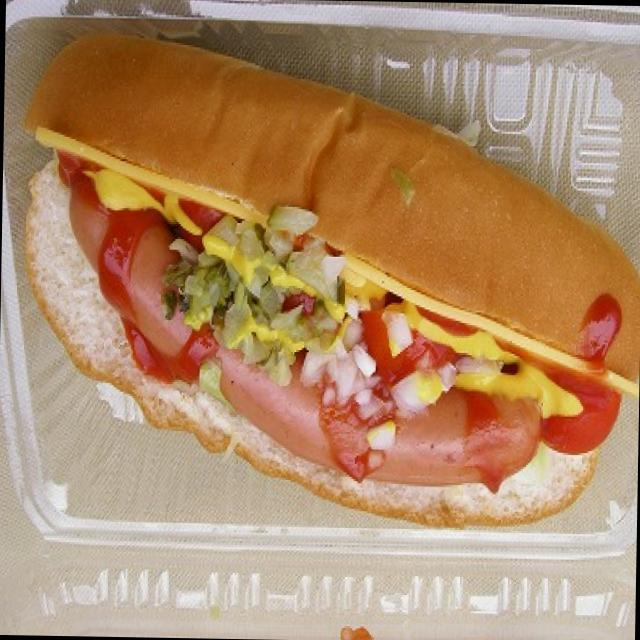Hot Dog: (20, 19, 640, 535)
